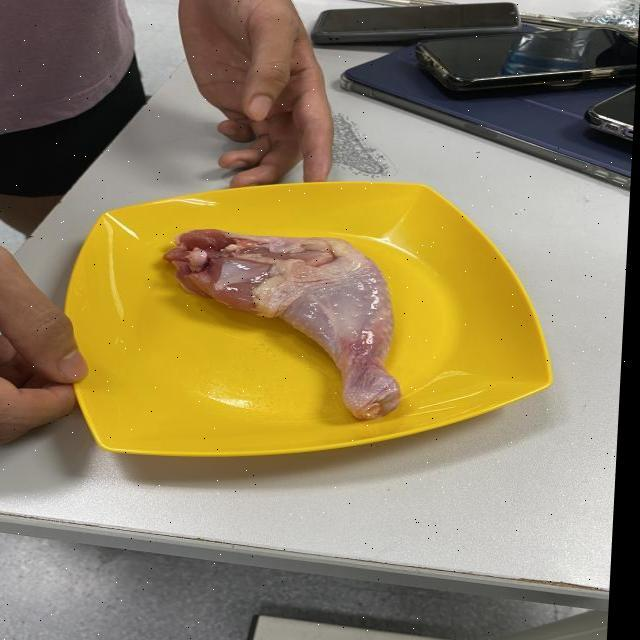quater: (159, 216, 409, 422)
